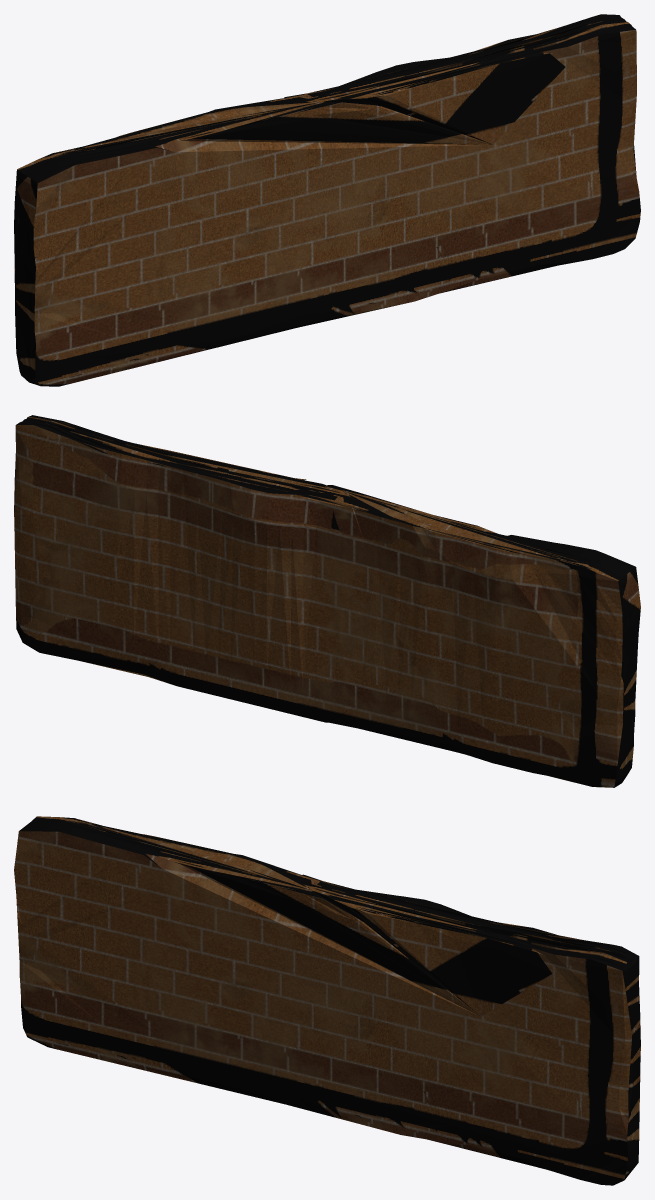
Rendered from walls low poly.fbx.
3 renders of one model, top to bottom at view 1: azimuth 30°, elevation 25°; view 2: azimuth 150°, elevation 25°; view 3: azimuth 330°, elevation 25°, orthographic.
Visible parts, largest first — view 1: wall_1; view 2: wall_1; view 3: wall_1.
Part boxes in pixels (left/top/right/bottom): wall_1: left=14, top=14, right=640, bottom=386; wall_1: left=14, top=415, right=640, bottom=787; wall_1: left=14, top=816, right=640, bottom=1185.
Size of the model in its own units: 3255 by 1159 by 247.
1 material, 1 textured.
